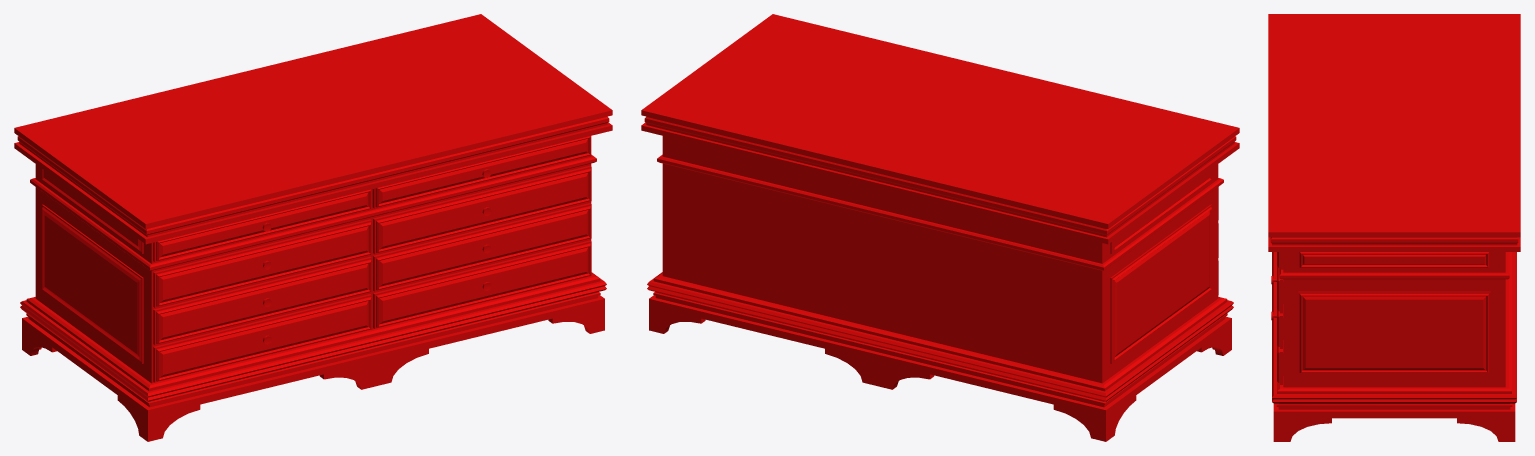
The model's file is table1.fbx.
3 views of the same model, side by side, from view 1: azimuth 30°, elevation 25°; view 2: azimuth 150°, elevation 25°; view 3: azimuth 270°, elevation 25° (orthographic). The views are drawn at different scales.
Visible parts, largest first — view 1: table1Base, table1Drawer2, table1Drawer3, table1Drawer4, table1Drawer6, table1Drawer1, table1Drawer5; view 2: table1Base; view 3: table1Base, table1Drawer6, table1Drawer4, table1Drawer2.
Part boxes in pixels (bbox=[...]): table1Base: bbox=[14, 14, 612, 441]; table1Drawer2: bbox=[373, 165, 591, 254]; table1Drawer3: bbox=[153, 256, 371, 344]; table1Drawer4: bbox=[373, 203, 591, 291]; table1Drawer6: bbox=[373, 240, 591, 328]; table1Drawer1: bbox=[153, 219, 371, 307]; table1Drawer5: bbox=[153, 294, 371, 382]; table1Base: bbox=[641, 14, 1239, 441]; table1Base: bbox=[1268, 14, 1520, 441]; table1Drawer6: bbox=[1271, 311, 1283, 384]; table1Drawer4: bbox=[1271, 276, 1283, 348]; table1Drawer2: bbox=[1277, 252, 1283, 313].
Bounding box in the file's own units: 173 × 78.45 × 84.6.
